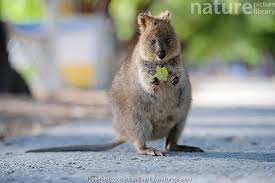quokka: (96, 3, 206, 155)
